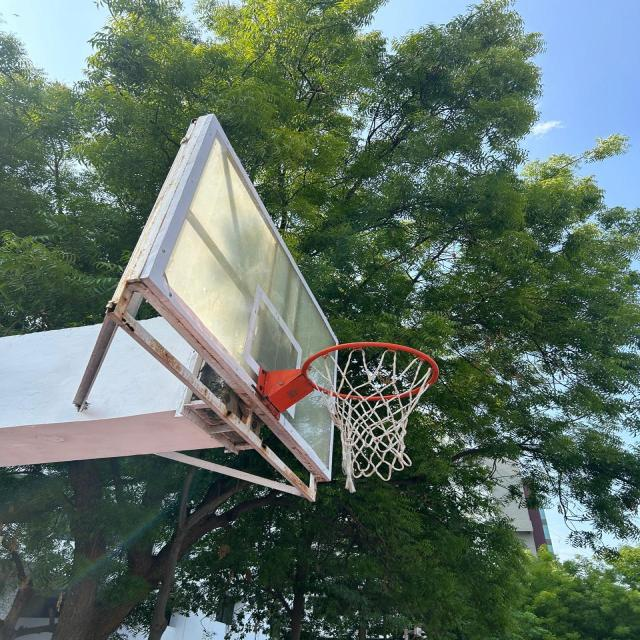hoop: (254, 332, 466, 506)
